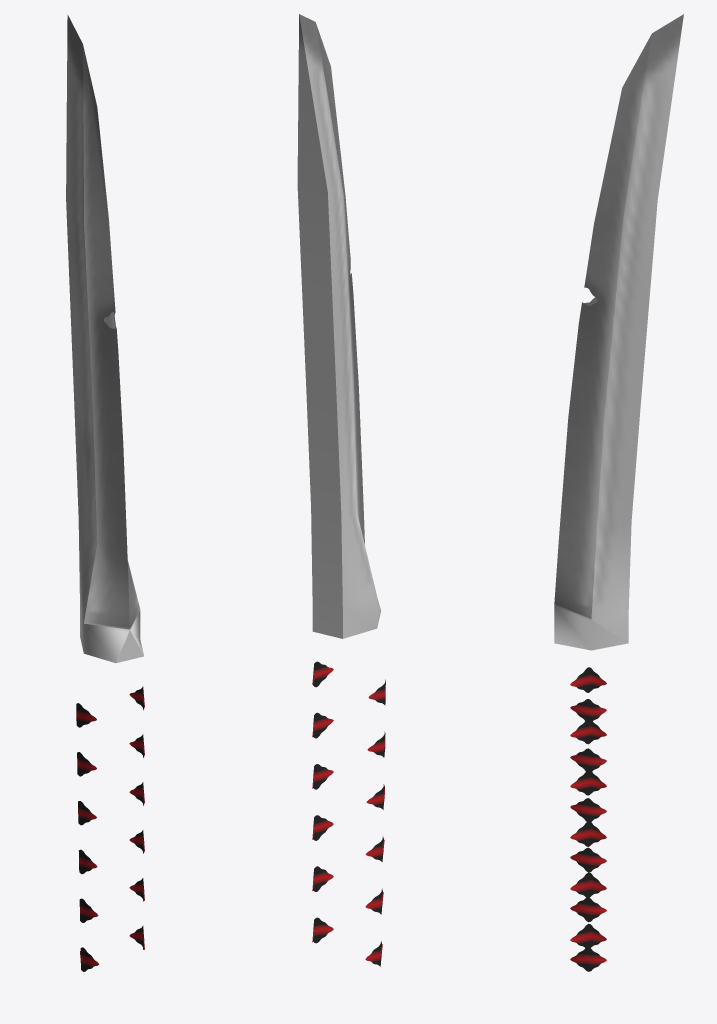
The model's file is TantoB.fbx.
3 renders of one model, left to right at view 1: azimuth 30°, elevation 25°; view 2: azimuth 150°, elevation 25°; view 3: azimuth 270°, elevation 25°, orthographic. The views are drawn at different scales.
Visible parts, largest first — view 1: node_2f9aac36_5747_4e4e_95cd_e76899a5701e_mesh0; view 2: node_2f9aac36_5747_4e4e_95cd_e76899a5701e_mesh0; view 3: node_2f9aac36_5747_4e4e_95cd_e76899a5701e_mesh0.
Part boxes in pixels (x1=…): node_2f9aac36_5747_4e4e_95cd_e76899a5701e_mesh0: x1=66, y1=15, x2=144, y2=971; node_2f9aac36_5747_4e4e_95cd_e76899a5701e_mesh0: x1=297, y1=14, x2=385, y2=966; node_2f9aac36_5747_4e4e_95cd_e76899a5701e_mesh0: x1=554, y1=14, x2=683, y2=971.
Bounding box in the file's own units: 0.0387 × 0.228 × 0.0468.
